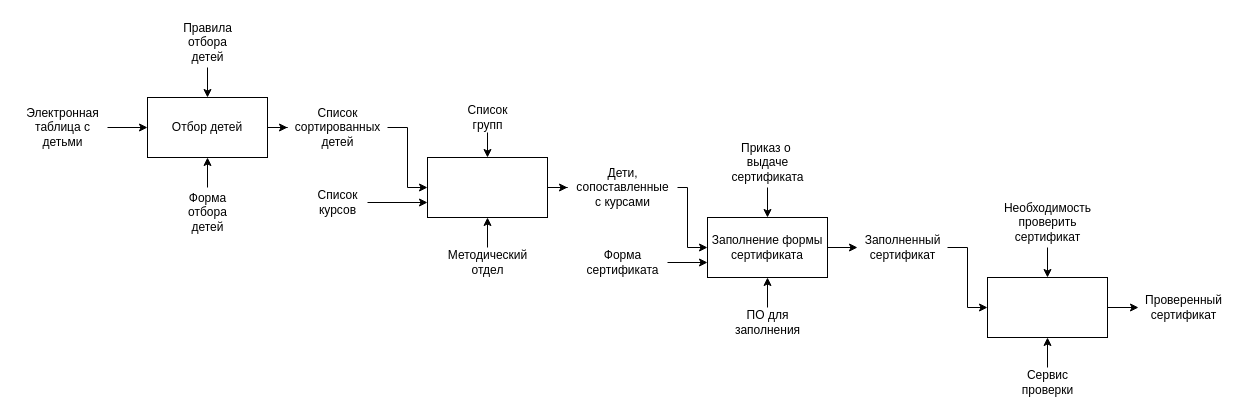
The diagram is 1245 pixels wide and 414 high, and some of its shapes have lost their labels. Here are the shapes that lost their labels. From the top down, the box of each, then its label:
(426, 156, 548, 218): Сопоставление детей и курсов
(986, 276, 1108, 338): Валидация сертификата
